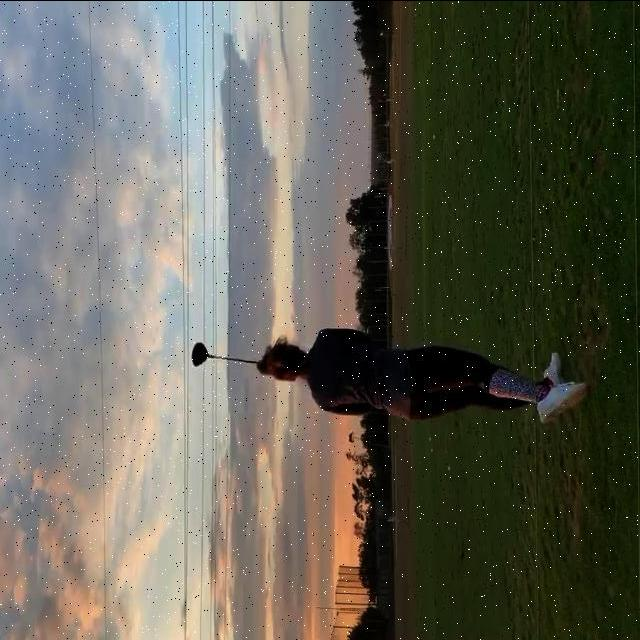ClubHandle: (192, 342, 259, 369)
